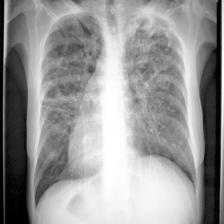tuberculosis: (28, 9, 204, 216)
